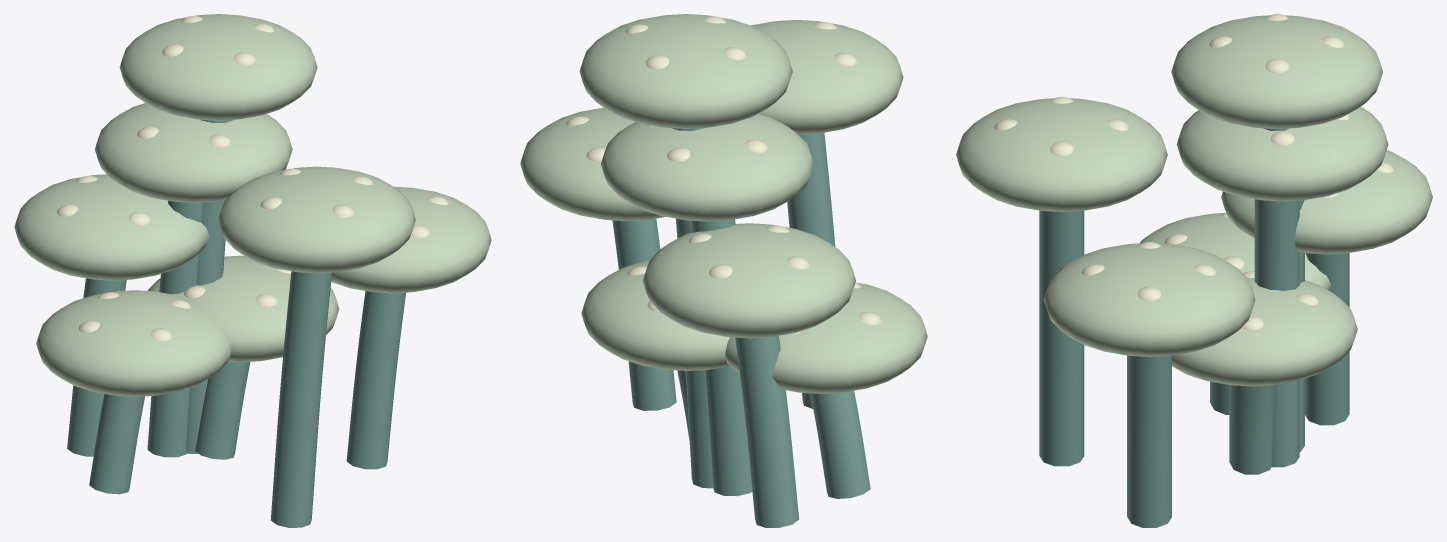
The model's file is bio_spore_fungus_06_near.glb.
3 views of the same model, side by side, from view 1: azimuth 30°, elevation 25°; view 2: azimuth 150°, elevation 25°; view 3: azimuth 270°, elevation 25° (orthographic). The views are drawn at different scales.
Parts seen in each view (by area): view 1: Thick umbrella cap.003, Thick umbrella cap.002, Thick umbrella cap.004, Thick umbrella cap.001, Thick umbrella cap.006, Curved stipe.002, Thick umbrella cap.005, Thick umbrella cap, Curved stipe.005, Curved stipe.004, Curved stipe.006, Curved stipe (+6 smaller); view 2: Thick umbrella cap.003, Thick umbrella cap.001, Thick umbrella cap.006, Thick umbrella cap.004, Thick umbrella cap.002, Thick umbrella cap, Thick umbrella cap.005, Curved stipe.001, Curved stipe.006, Curved stipe.004, Curved stipe.005, Curved stipe.002 (+4 smaller); view 3: Thick umbrella cap.005, Thick umbrella cap.003, Thick umbrella cap.002, Thick umbrella cap.006, Thick umbrella cap, Thick umbrella cap.001, Curved stipe.002, Curved stipe.005, Curved stipe.003, Curved stipe, Curved stipe.001, Thick umbrella cap.004 (+5 smaller).
Part boxes in pixels (x1=…): Thick umbrella cap.003: x1=119, y1=14, x2=317, y2=120; Thick umbrella cap.002: x1=218, y1=166, x2=415, y2=273; Thick umbrella cap.004: x1=36, y1=290, x2=231, y2=396; Thick umbrella cap.001: x1=14, y1=174, x2=209, y2=280; Thick umbrella cap.006: x1=94, y1=103, x2=292, y2=202; Curved stipe.002: x1=270, y1=271, x2=332, y2=527; Thick umbrella cap.005: x1=331, y1=186, x2=491, y2=293; Thick umbrella cap: x1=148, y1=255, x2=339, y2=362; Curved stipe.005: x1=346, y1=291, x2=405, y2=469; Curved stipe.004: x1=89, y1=394, x2=144, y2=494; Curved stipe.006: x1=147, y1=200, x2=202, y2=457; Curved stipe: x1=195, y1=361, x2=250, y2=459; Thick umbrella cap.003: x1=579, y1=14, x2=792, y2=128; Thick umbrella cap.001: x1=643, y1=223, x2=855, y2=338; Thick umbrella cap.006: x1=601, y1=113, x2=813, y2=221; Thick umbrella cap.004: x1=725, y1=282, x2=927, y2=393; Thick umbrella cap.002: x1=751, y1=20, x2=903, y2=134; Thick umbrella cap: x1=581, y1=260, x2=729, y2=370; Thick umbrella cap.005: x1=520, y1=107, x2=665, y2=220; Curved stipe.001: x1=735, y1=335, x2=799, y2=527; Curved stipe.006: x1=691, y1=219, x2=752, y2=496; Curved stipe.004: x1=810, y1=390, x2=870, y2=498; Curved stipe.005: x1=612, y1=218, x2=676, y2=410; Curved stipe.002: x1=787, y1=132, x2=835, y2=408; Thick umbrella cap.005: x1=1043, y1=243, x2=1255, y2=356; Thick umbrella cap.003: x1=1171, y1=15, x2=1382, y2=128; Thick umbrella cap.002: x1=956, y1=98, x2=1167, y2=211; Thick umbrella cap.006: x1=1176, y1=106, x2=1388, y2=201; Thick umbrella cap: x1=1172, y1=277, x2=1357, y2=386; Thick umbrella cap.001: x1=1221, y1=150, x2=1432, y2=254; Curved stipe.002: x1=1039, y1=210, x2=1084, y2=466; Curved stipe.005: x1=1127, y1=355, x2=1171, y2=527; Curved stipe.003: x1=1254, y1=128, x2=1299, y2=467; Curved stipe: x1=1229, y1=385, x2=1274, y2=474; Curved stipe.001: x1=1305, y1=253, x2=1349, y2=425; Thick umbrella cap.004: x1=1140, y1=213, x2=1331, y2=290.
Bounding box in the file's own units: 1.82 × 1.82 × 1.8.
